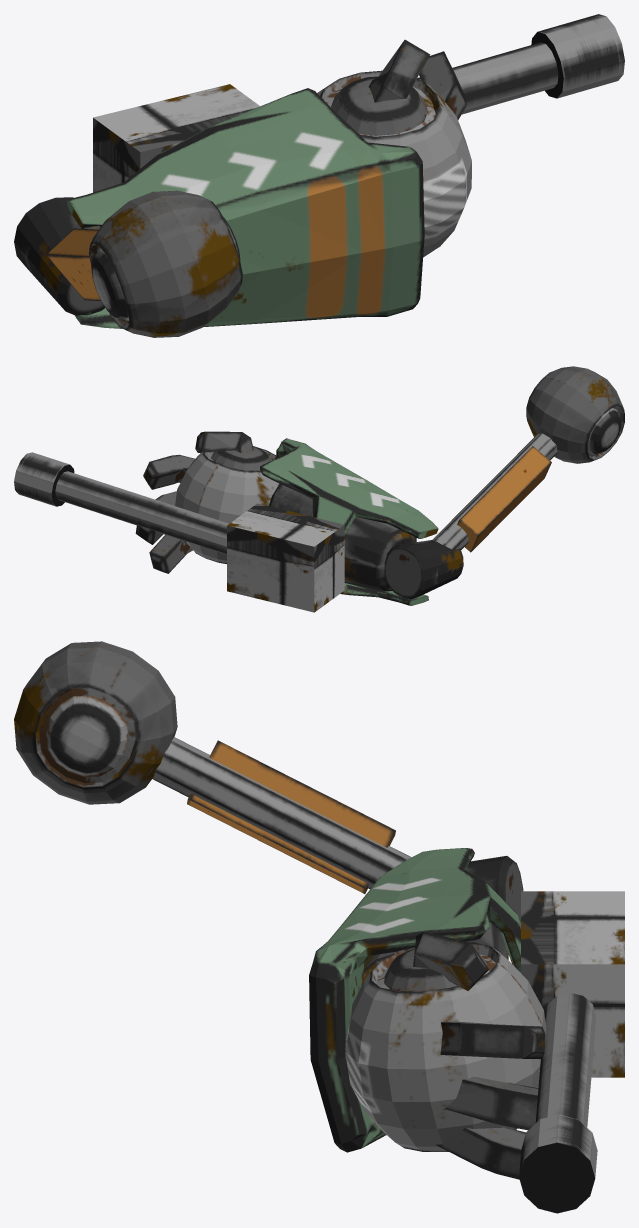
File: SM_Mech_ArmR.obj
3 views of the same model, one above another, from view 1: azimuth 30°, elevation 25°; view 2: azimuth 150°, elevation 25°; view 3: azimuth 270°, elevation 25° (orthographic). The views are drawn at different scales.
Visible parts, largest first — view 1: SM_Mech_ArmR; view 2: SM_Mech_ArmR; view 3: SM_Mech_ArmR.
Boxes of the visible parts, x1,y1,x2,y2 form: SM_Mech_ArmR: (14,14,624,337); SM_Mech_ArmR: (14,366,624,612); SM_Mech_ArmR: (14,641,624,1213).
Bounding box in the file's own units: 289 × 110 × 194.
Materials: 1 (1 with a texture image).
